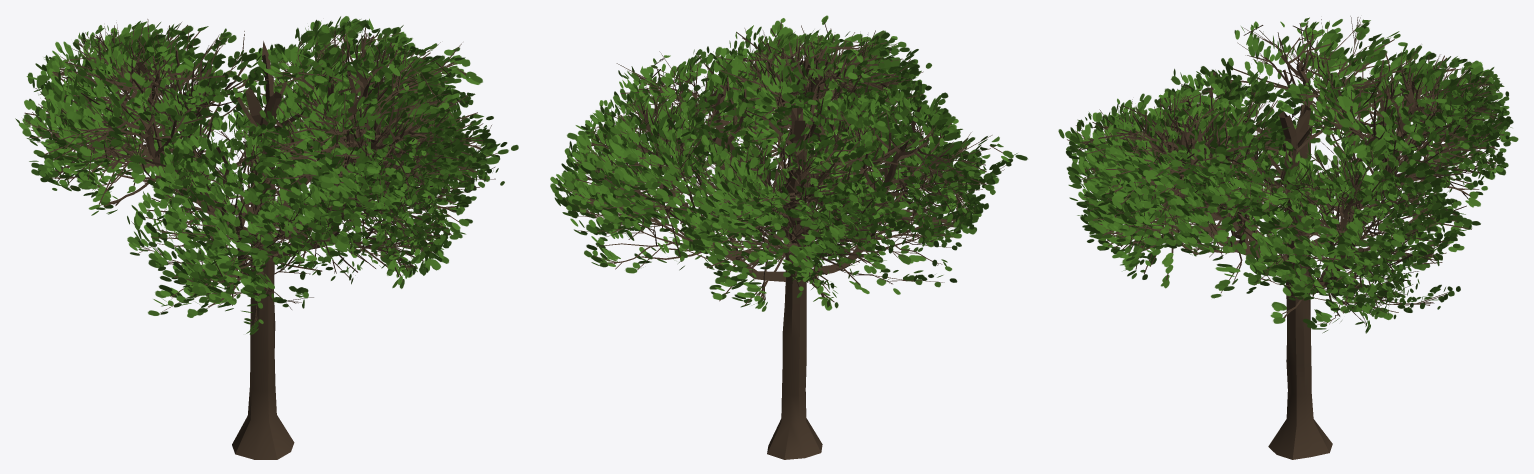
The picture shows the model from 3 angles, left to right: view 1: azimuth 30°, elevation 25°; view 2: azimuth 150°, elevation 25°; view 3: azimuth 270°, elevation 25°; orthographic projection. The views are drawn at different scales.
Parts seen in each view (by area): view 1: oak 01.001_trunk_Mat.001_0.136; view 2: oak 01.001_trunk_Mat.001_0.136; view 3: oak 01.001_trunk_Mat.001_0.136.
Boxes of the visible parts, left/top/right/bottom form: oak 01.001_trunk_Mat.001_0.136: left=15, top=16, right=518, bottom=459; oak 01.001_trunk_Mat.001_0.136: left=550, top=15, right=1027, bottom=459; oak 01.001_trunk_Mat.001_0.136: left=1058, top=16, right=1518, bottom=459.
Bounding box in the file's own units: 4.6 × 3.79 × 4.44.
Materials: 2 (1 with a texture image).
